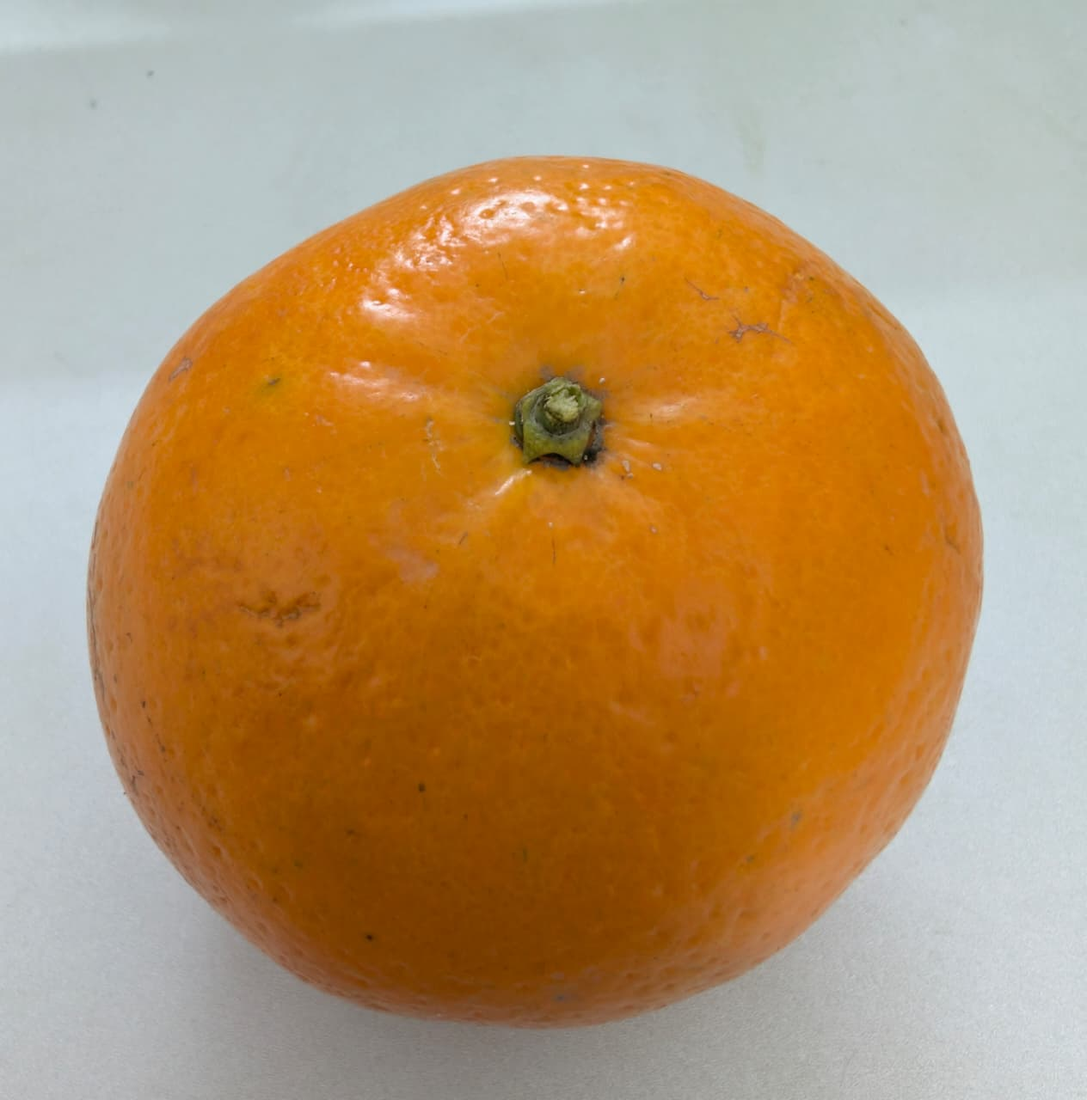orange: (110, 38, 1087, 1007)
